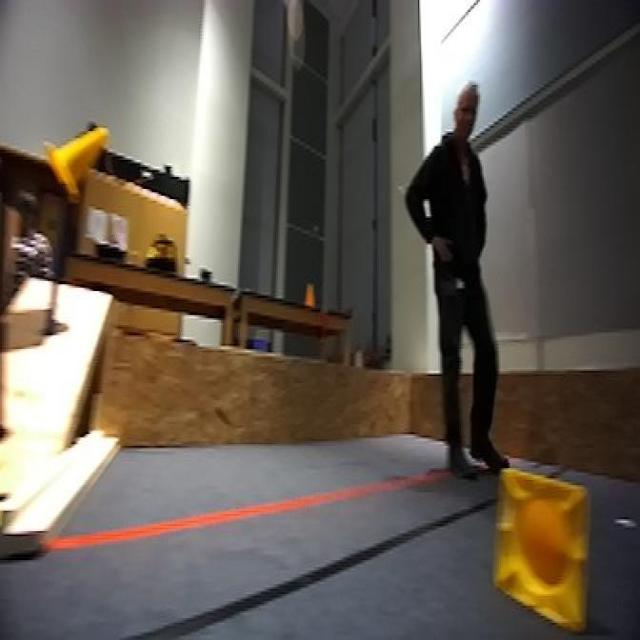frc_cone: (494, 463, 592, 631), (44, 122, 108, 198)
